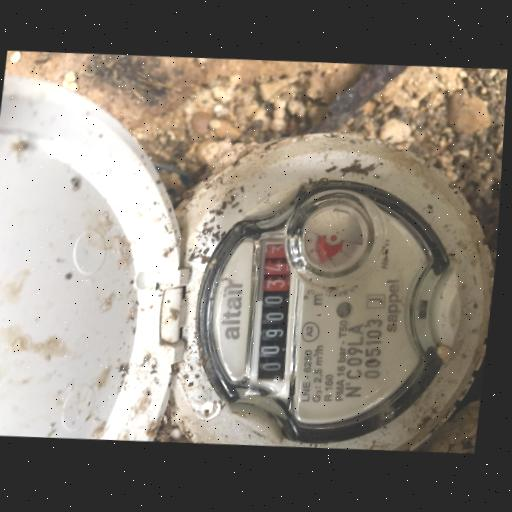0: (258, 341, 288, 360), (260, 306, 289, 325), (261, 289, 290, 308), (257, 357, 285, 376)
3: (263, 241, 289, 260), (262, 273, 291, 290)
4: (262, 257, 293, 274)
9: (260, 323, 288, 342)
border_water_meter_number: (244, 236, 306, 387)
